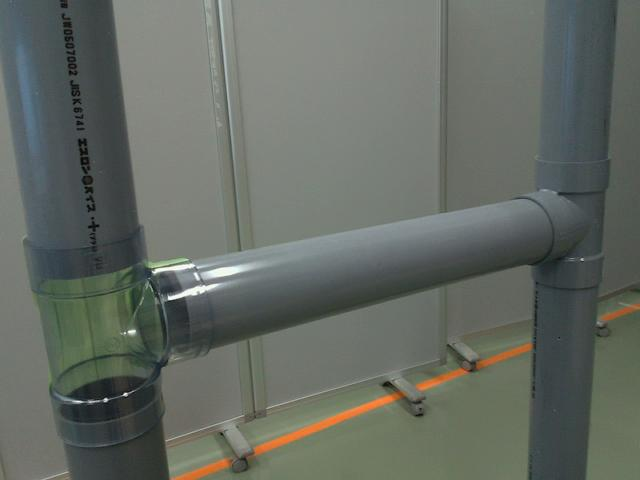junction: (22, 219, 212, 450), (508, 150, 612, 289)
